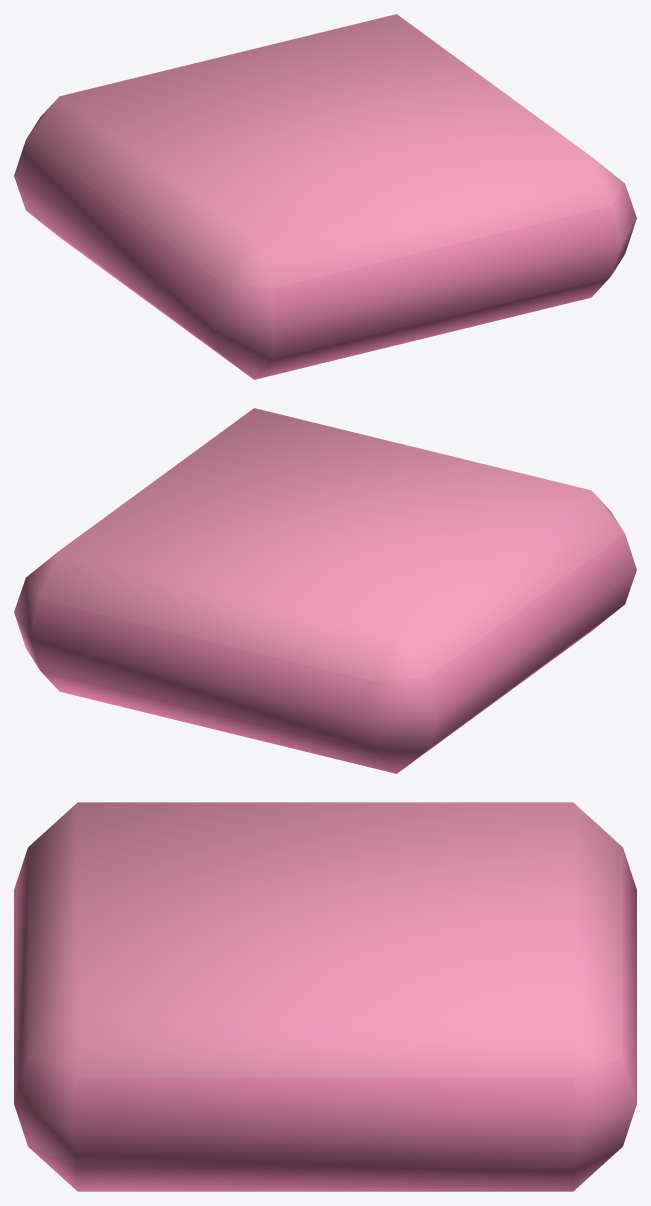
Rendered from Towel Pink.glb.
The picture shows the model from 3 angles, top to bottom: view 1: azimuth 30°, elevation 25°; view 2: azimuth 150°, elevation 25°; view 3: azimuth 270°, elevation 25°; orthographic projection. The views are drawn at different scales.
Visible parts, largest first — view 1: towel_pink; view 2: towel_pink; view 3: towel_pink.
Boxes of the visible parts, left/top/right/bottom form: towel_pink: left=14, top=14, right=636, bottom=379; towel_pink: left=14, top=408, right=636, bottom=773; towel_pink: left=14, top=802, right=636, bottom=1191.
Size of the model in its own units: 0.6284 by 0.2 by 0.6284.
1 material, 1 textured.
